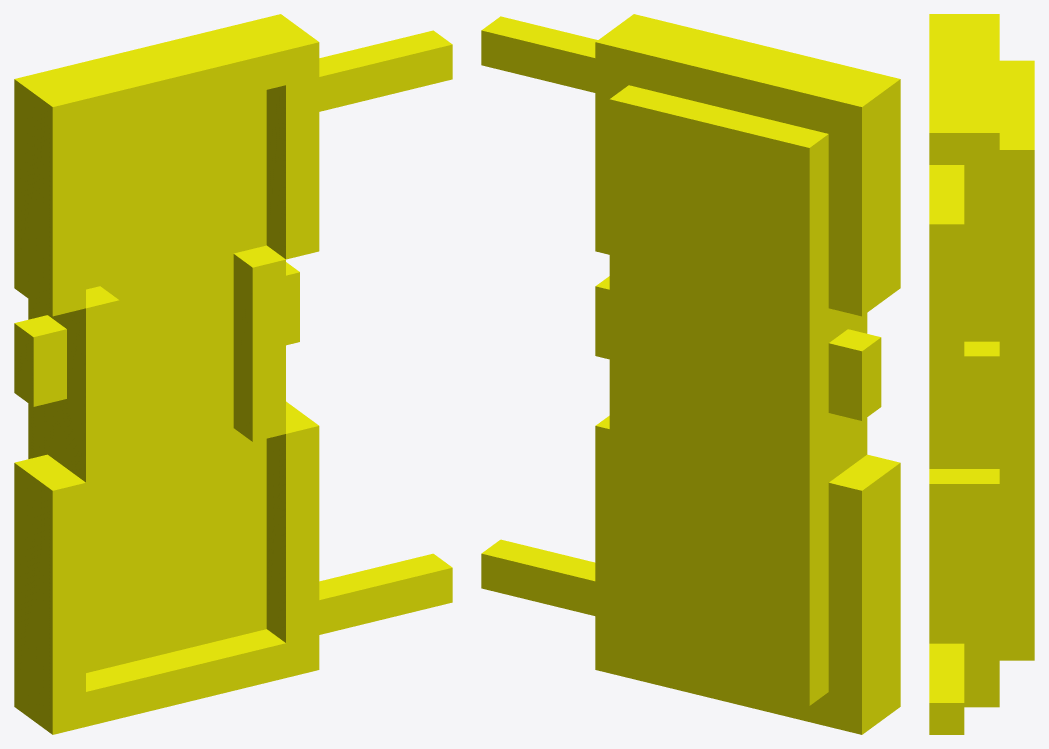
3 views of the same model, side by side, from view 1: azimuth 30°, elevation 25°; view 2: azimuth 150°, elevation 25°; view 3: azimuth 270°, elevation 25° (orthographic). The views are drawn at different scales.
Visible parts, largest first — view 1: Advertising_6; view 2: Advertising_6; view 3: Advertising_6.
Part boxes in pixels (bbox=[...]): Advertising_6: bbox=[14, 14, 452, 734]; Advertising_6: bbox=[481, 14, 900, 734]; Advertising_6: bbox=[929, 14, 1034, 734].
Bounding box in the file's own units: 1.2 × 1.8 × 0.3.
1 material, 1 textured.
